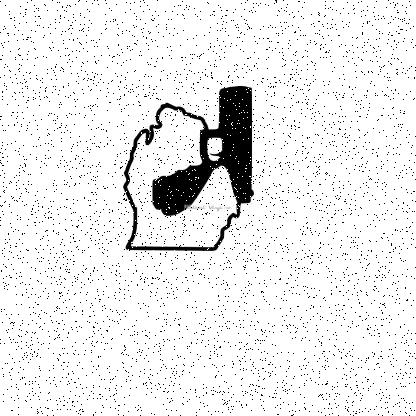pistol: (153, 86, 257, 216)
